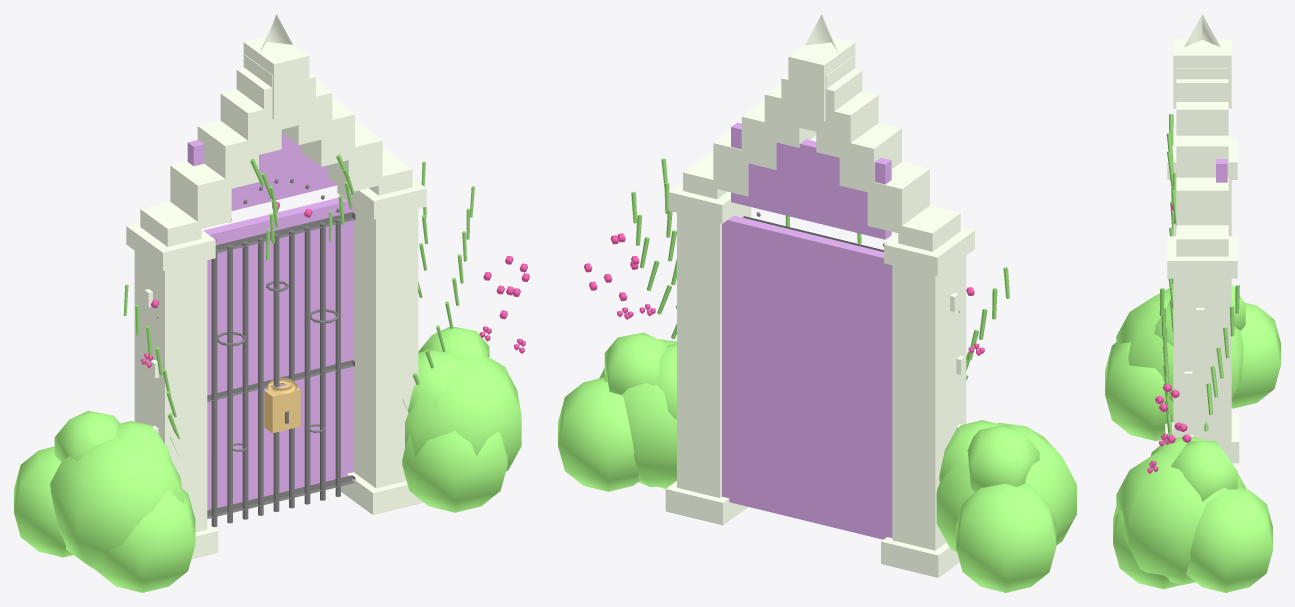
The model's file is 07_alice-maze.glb.
The picture shows the model from 3 angles, left to right: view 1: azimuth 30°, elevation 25°; view 2: azimuth 150°, elevation 25°; view 3: azimuth 270°, elevation 25°; orthographic projection. The views are drawn at different scales.
Parts seen in each view (by area): view 1: stone_arch, hedge_green, arch_inner, iron_gate, vine_branch, padlock, berry; view 2: stone_arch, arch_inner, hedge_green, vine_branch, berry; view 3: hedge_green, stone_arch, vine_branch, berry, arch_inner.
Part boxes in pixels (left/top/right/bottom): stone_arch: left=126, top=14, right=426, bottom=559; hedge_green: left=14, top=326, right=521, bottom=592; arch_inner: left=187, top=133, right=353, bottom=510; iron_gate: left=207, top=179, right=355, bottom=527; vine_branch: left=123, top=154, right=474, bottom=454; padlock: left=264, top=378, right=300, bottom=433; berry: left=141, top=202, right=529, bottom=368; stone_arch: left=665, top=14, right=974, bottom=577; arch_inner: left=722, top=122, right=892, bottom=539; hedge_green: left=558, top=332, right=1076, bottom=592; vine_branch: left=631, top=158, right=1009, bottom=380; berry: left=584, top=233, right=984, bottom=355; hedge_green: left=1105, top=284, right=1280, bottom=592; stone_arch: left=1165, top=14, right=1239, bottom=463; vine_branch: left=1159, top=114, right=1239, bottom=435; berry: left=1147, top=204, right=1191, bottom=473; arch_inner: left=1216, top=159, right=1227, bottom=182.
Size of the model in its own units: 14 by 14.05 by 4.51.
